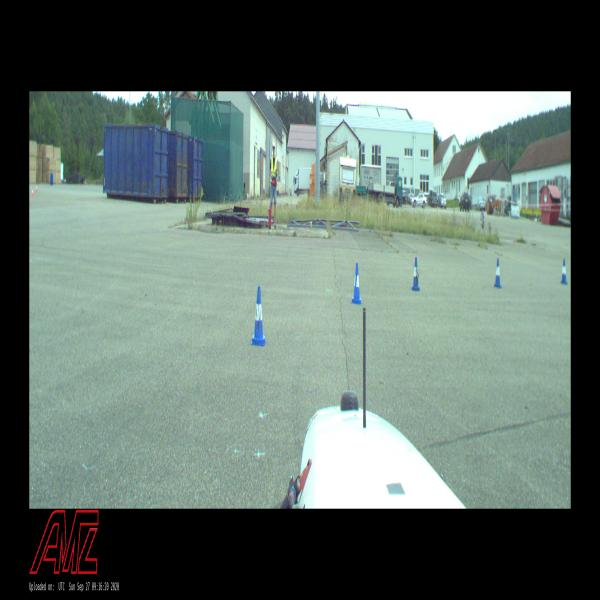blue_cone: (251, 286, 267, 346), (350, 263, 362, 304), (411, 257, 420, 291), (494, 258, 502, 288), (560, 258, 568, 284)
orange_cone: (31, 187, 34, 198), (36, 184, 38, 192)
